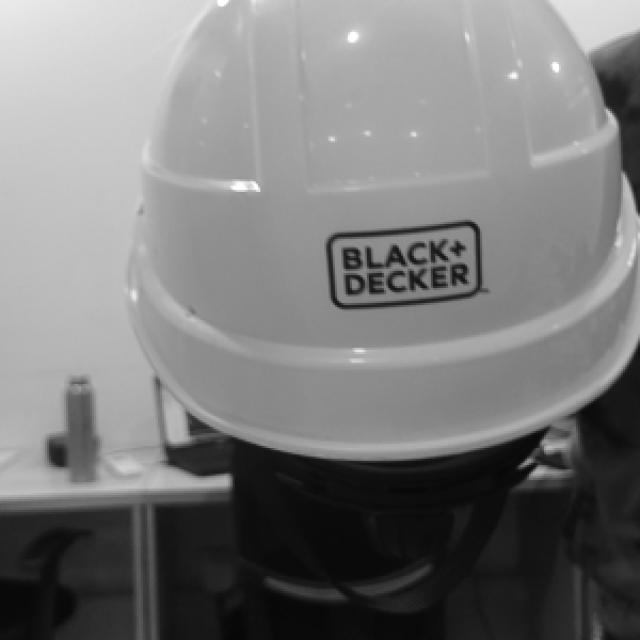safety_helmet: (126, 1, 640, 460)
